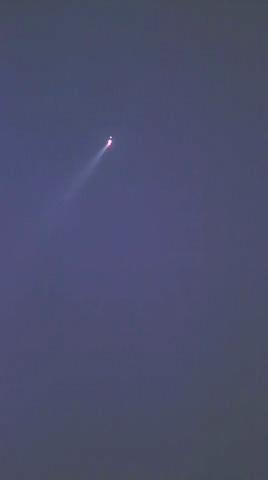Plane: (72, 122, 123, 195)
